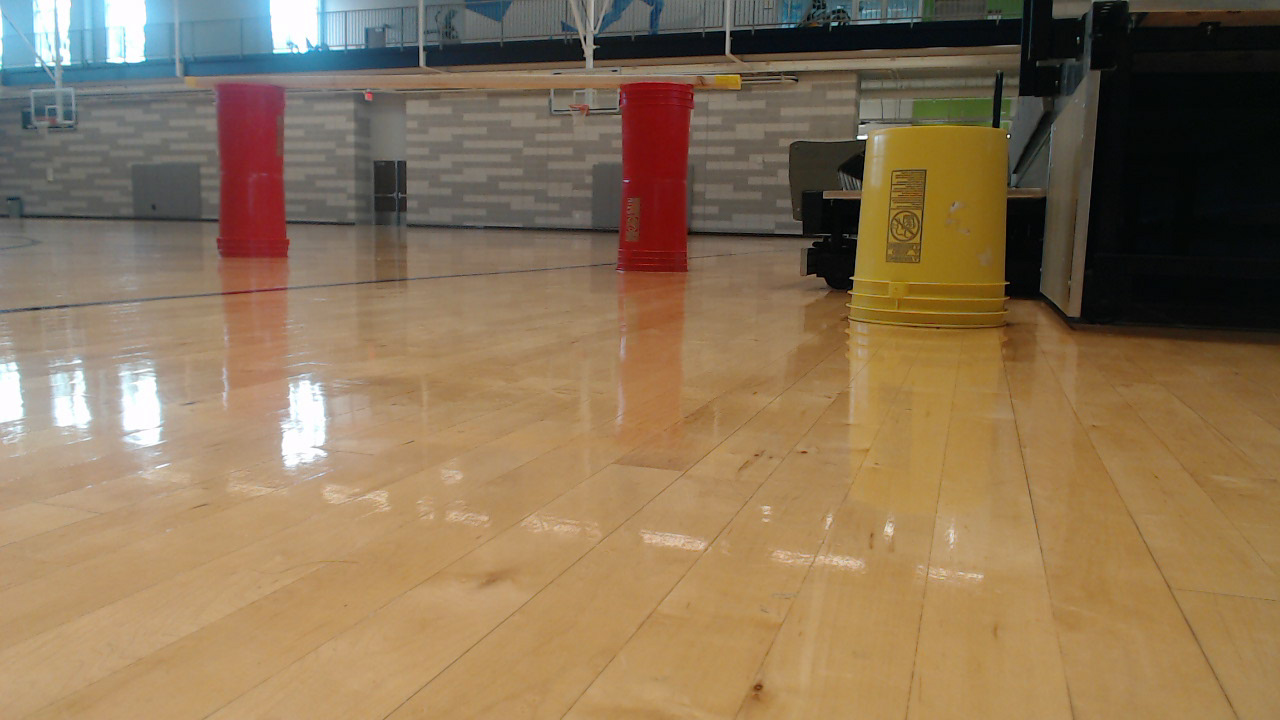red_bucket_arch: (212, 72, 705, 284)
yellow_bucket: (847, 125, 1024, 342)
